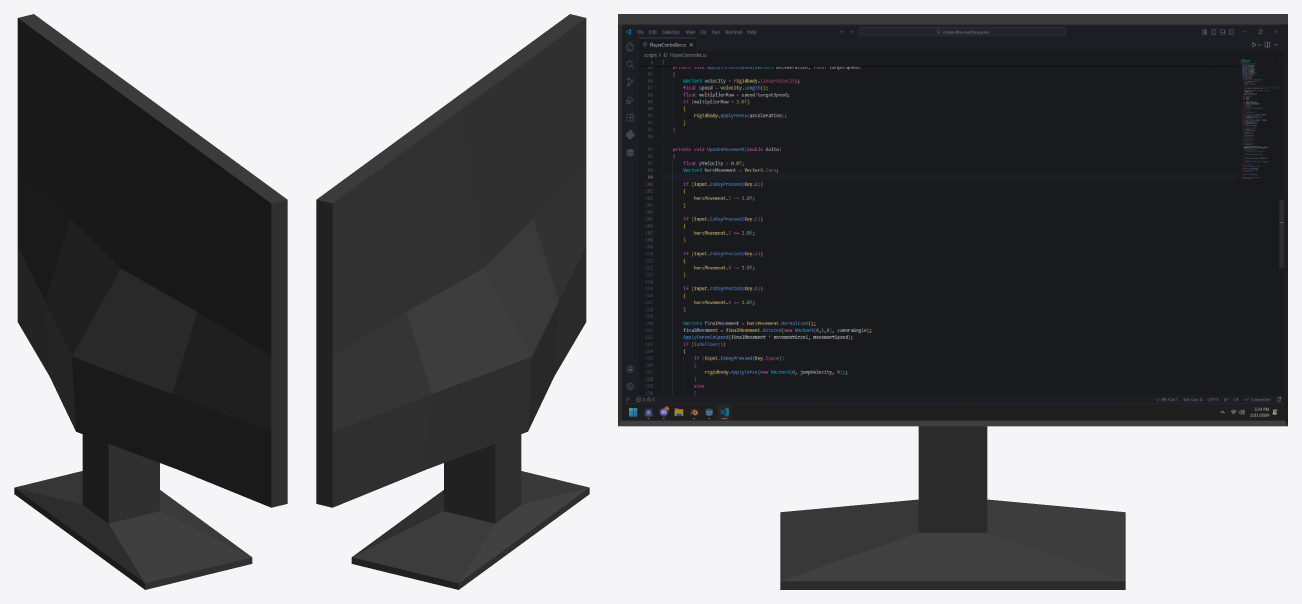
File: monitor.glb
3 renders of one model, left to right at view 1: azimuth 30°, elevation 25°; view 2: azimuth 150°, elevation 25°; view 3: azimuth 270°, elevation 25°, orthographic. The views are drawn at different scales.
Visible parts, largest first — view 1: Cube; view 2: Cube; view 3: Plane, Cube.
Boxes of the visible parts, <box> form: Cube: <box>14,14,287,589</box>; Cube: <box>316,14,589,589</box>; Plane: <box>622,25,1283,420</box>; Cube: <box>618,14,1287,589</box>.
Bounding box in the file's own units: 0.8758 × 3.03 × 3.35.
Materials: 2 (1 with a texture image).
